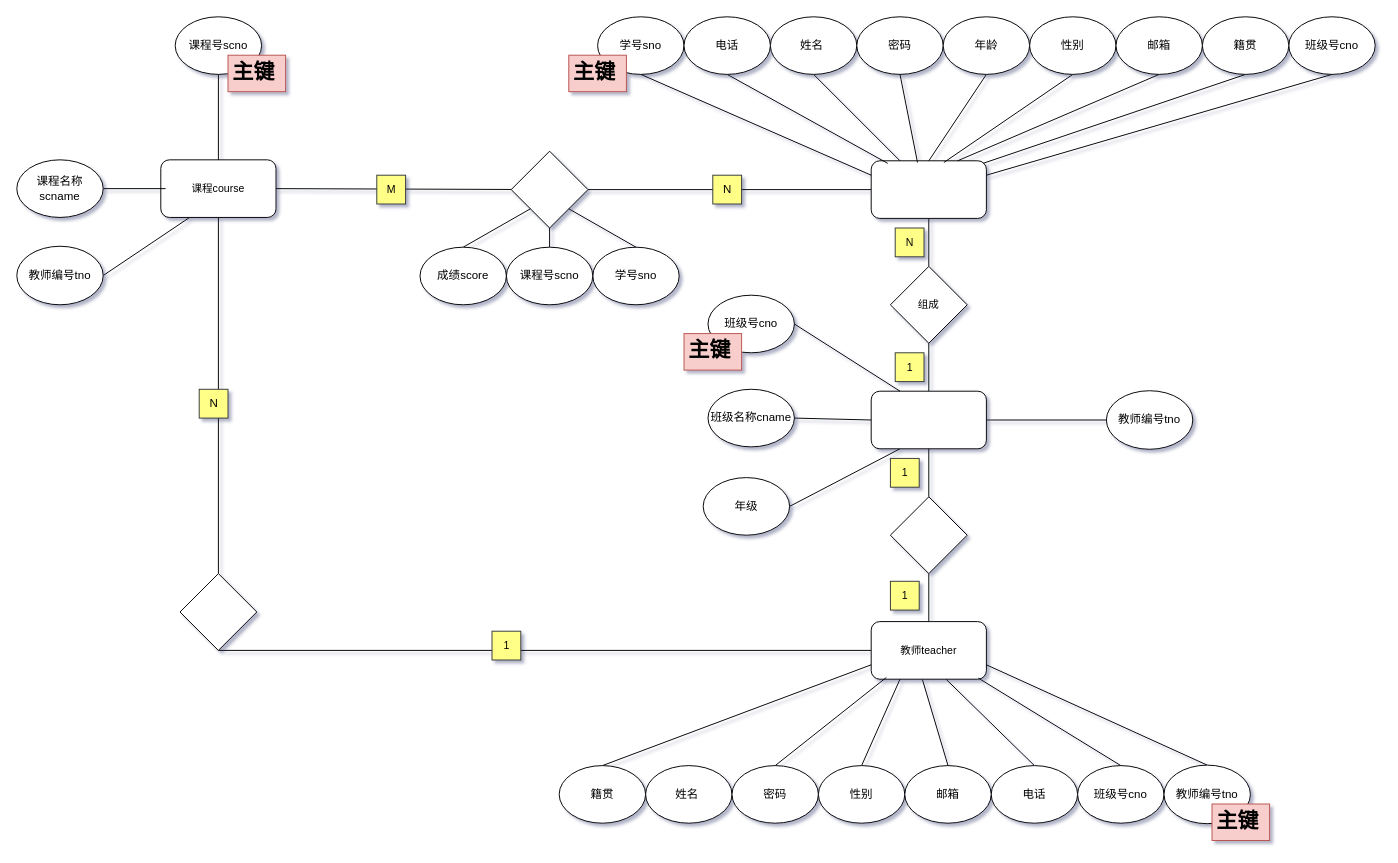
Image size: 1398x863. Some labels were removed from this diagram. Each missing label, with the centre of its shape:
"任课" belongs at pixel 218 611.
"学生student" belongs at pixel 928 189.
"班级class" belongs at pixel 928 419.
"管理" belongs at pixel 928 535.
"选课sc" belongs at pixel 549 189.
